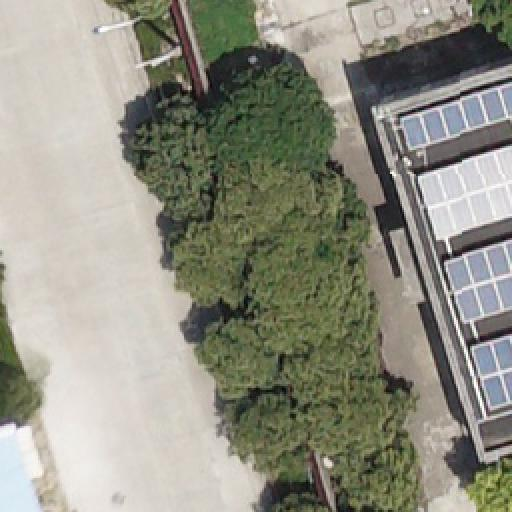solar-panel: (416, 149, 512, 243), (400, 85, 512, 155), (441, 242, 511, 326), (472, 334, 512, 410)
